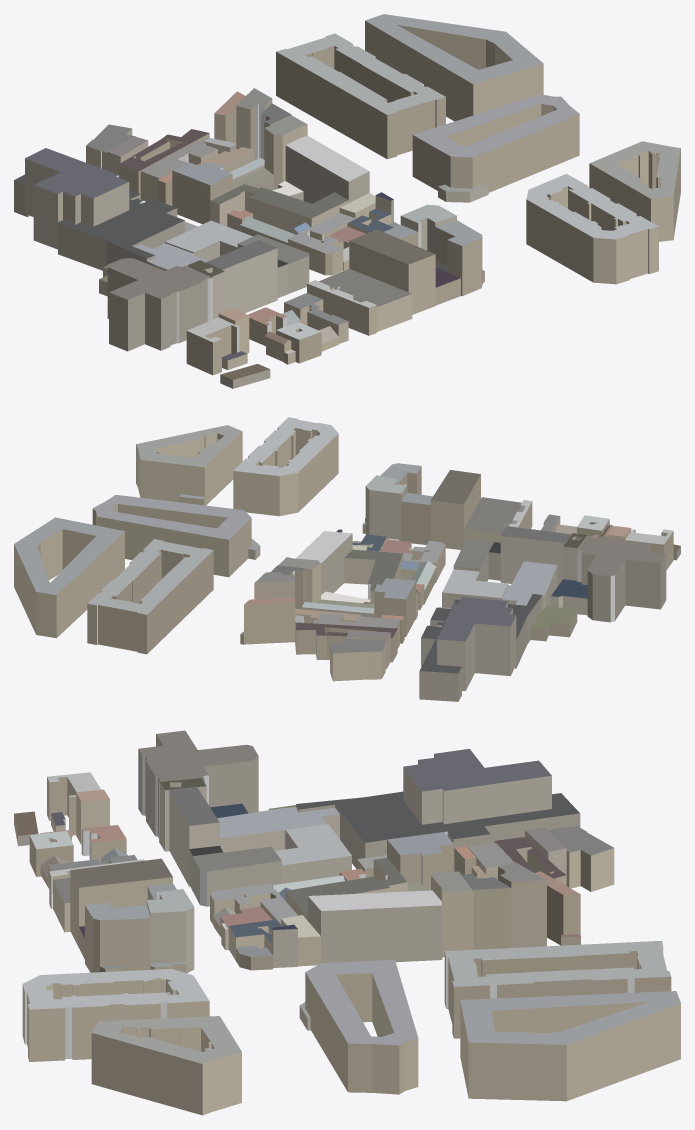
The picture shows the model from 3 angles, top to bottom: view 1: azimuth 30°, elevation 25°; view 2: azimuth 150°, elevation 25°; view 3: azimuth 270°, elevation 25°; orthographic projection. The views are drawn at different scales.
Parts seen in each view (by area): view 1: tuile; view 2: tuile; view 3: tuile.
Boxes of the visible parts, x1,y1,x2,y2 form: tuile: [14, 14, 680, 388]; tuile: [14, 417, 680, 701]; tuile: [14, 730, 680, 1115].
Size of the model in its own units: 288 by 34.85 by 246.
